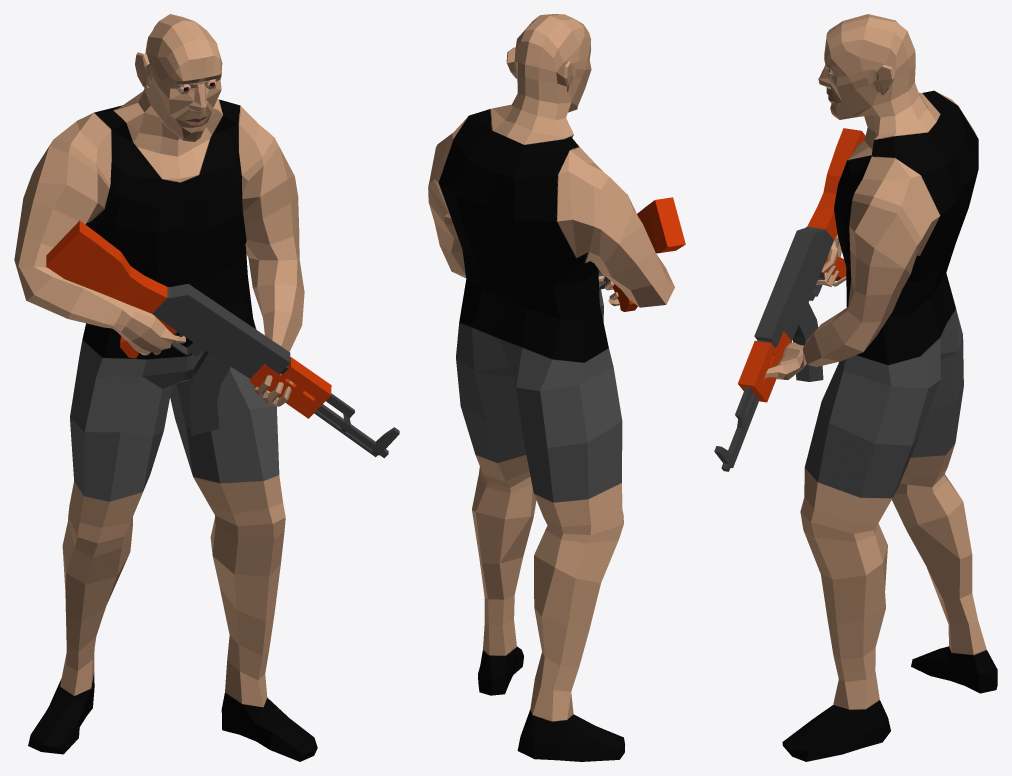
The model's file is PlayerIdle(82).obj.
The picture shows the model from 3 angles, left to right: view 1: azimuth 30°, elevation 25°; view 2: azimuth 150°, elevation 25°; view 3: azimuth 270°, elevation 25°; orthographic projection. The views are drawn at different scales.
Parts seen in each view (by area): view 1: Plane002, Object001; view 2: Plane002, Object001; view 3: Plane002, Object001.
Part boxes in pixels (x1,y1,x2,y2): Plane002: (14,14,317,761); Object001: (46,220,399,458); Plane002: (428,14,674,761); Object001: (598,197,685,321); Plane002: (764,14,997,761); Object001: (714,128,865,471).
Bounding box in the file's own units: 730 × 1800 × 663.
